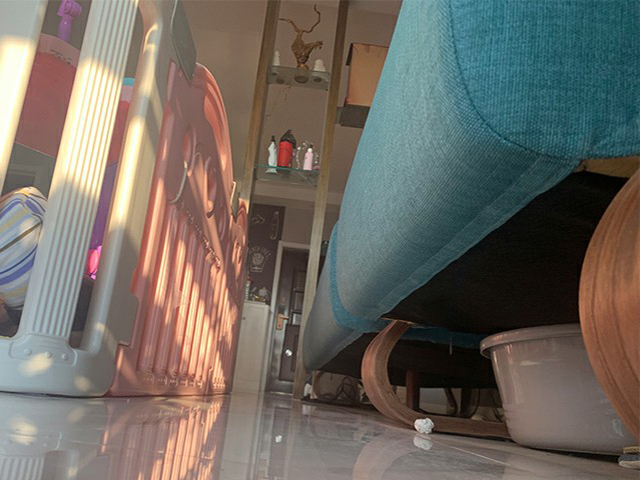cabinet: (231, 299, 270, 393)
sofa: (301, 1, 640, 472)
